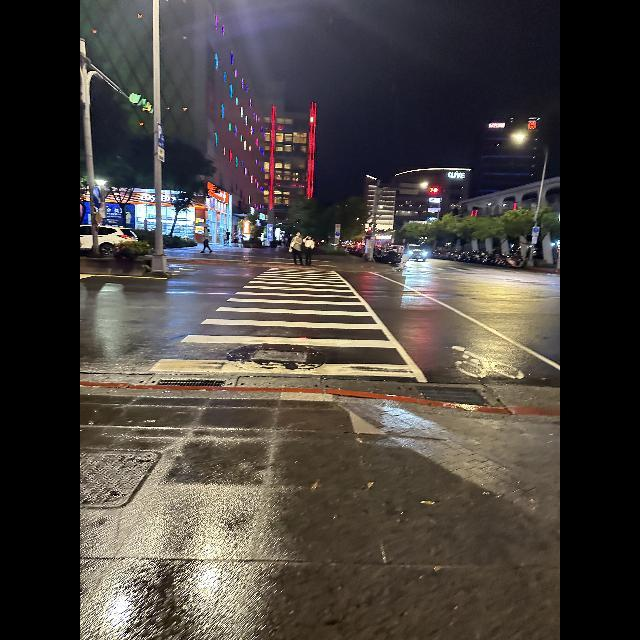sidewalk: (150, 268, 416, 377)
